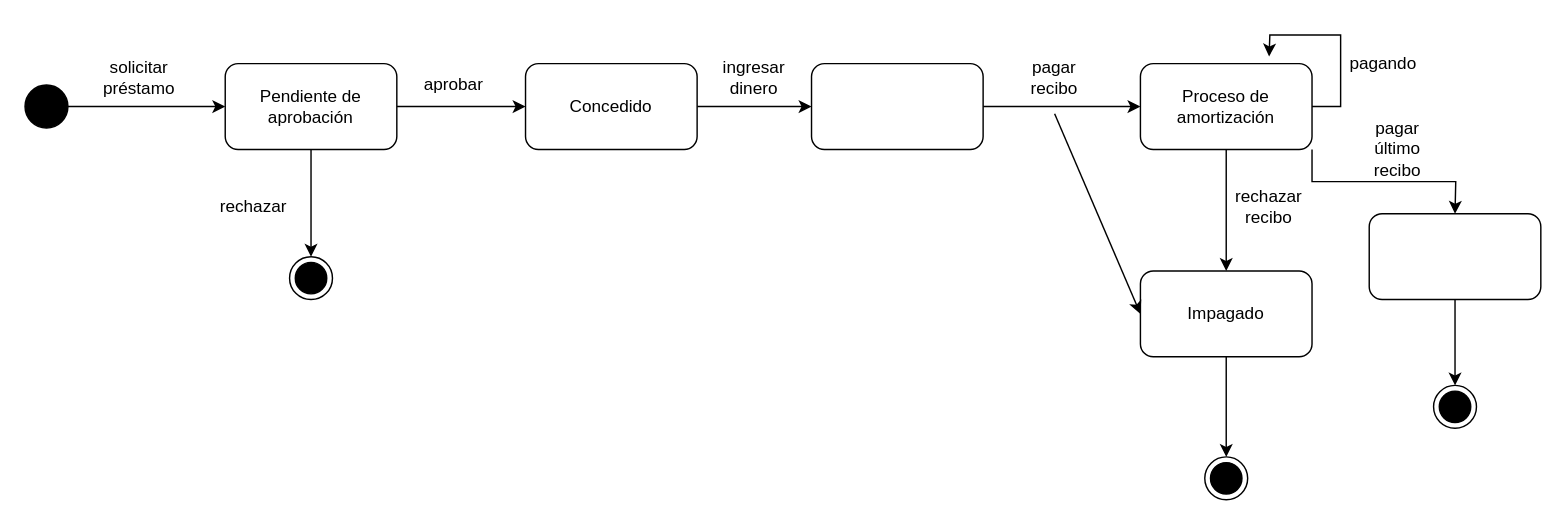
Image size: 1566x525. Some labels were removed from this diagram. Each missing label, with the centre of its shape:
"Abonado" belongs at point (896, 105).
"Préstamo saldado" belongs at point (1454, 256).
